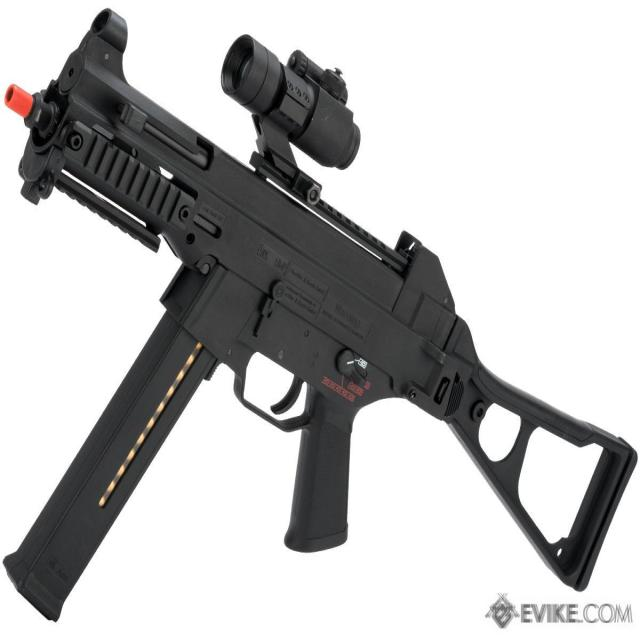SMG: (2, 10, 639, 624)
